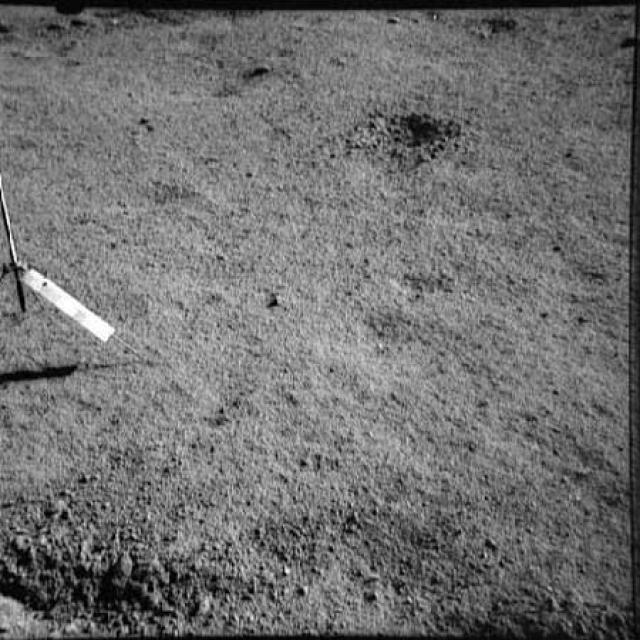artifact: (0, 175, 126, 355)
crater: (328, 94, 474, 164)
